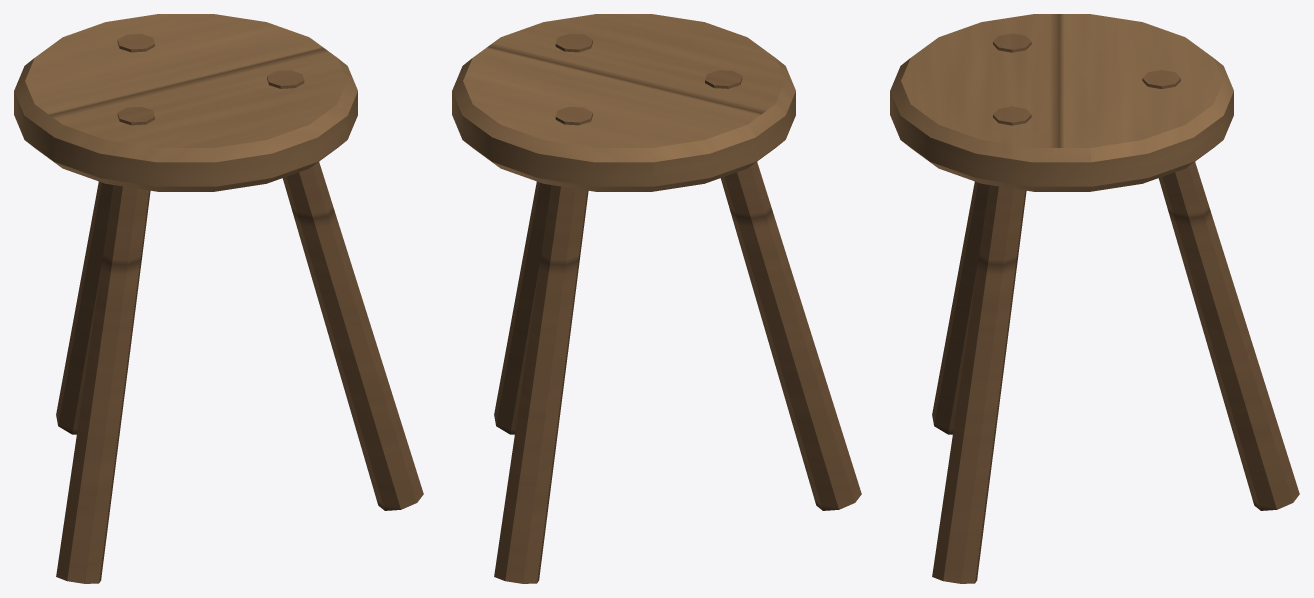
File: stool.glb
3 renders of one model, left to right at view 1: azimuth 30°, elevation 25°; view 2: azimuth 150°, elevation 25°; view 3: azimuth 270°, elevation 25°, orthographic.
Visible parts, largest first — view 1: stool.001; view 2: stool.001; view 3: stool.001.
Part boxes in pixels (<box>): stool.001: <box>14,14,423,583</box>; stool.001: <box>452,14,861,583</box>; stool.001: <box>890,14,1299,583</box>.
Bounding box in the file's own units: 0.3879 × 0.4388 × 0.3812.
3 materials, 3 textured.
